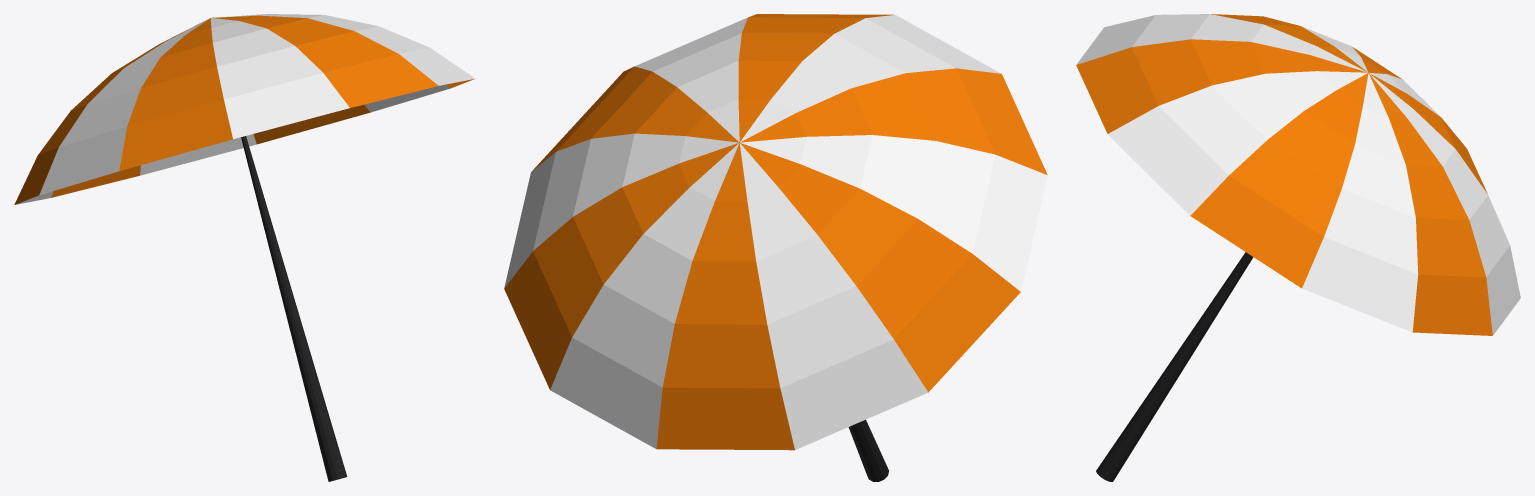
File: sobrilla posta.fbx
The picture shows the model from 3 angles, left to right: view 1: azimuth 30°, elevation 25°; view 2: azimuth 150°, elevation 25°; view 3: azimuth 270°, elevation 25°; orthographic projection. The views are drawn at different scales.
Parts seen in each view (by area): view 1: Sombrilla; view 2: Sombrilla; view 3: Sombrilla.
Part boxes in pixels (<box>): Sombrilla: <box>14,14,475,481</box>; Sombrilla: <box>504,14,1047,481</box>; Sombrilla: <box>1076,14,1520,481</box>.
Size of the model in its own units: 200 by 189 by 173.
Materials: 1 (1 with a texture image).
